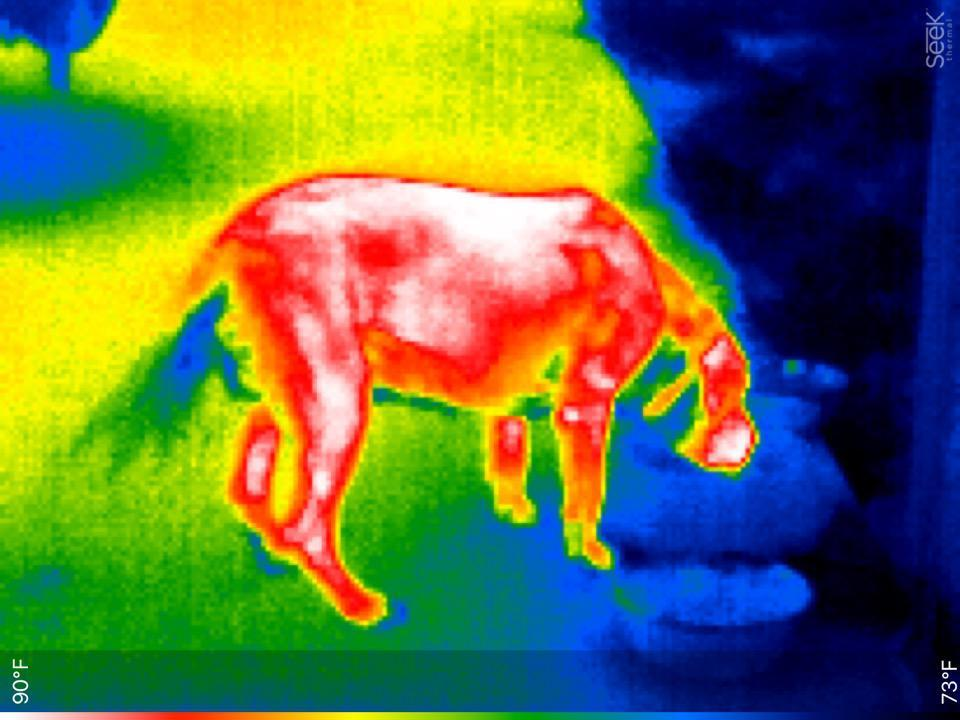dog: (163, 162, 766, 631)
